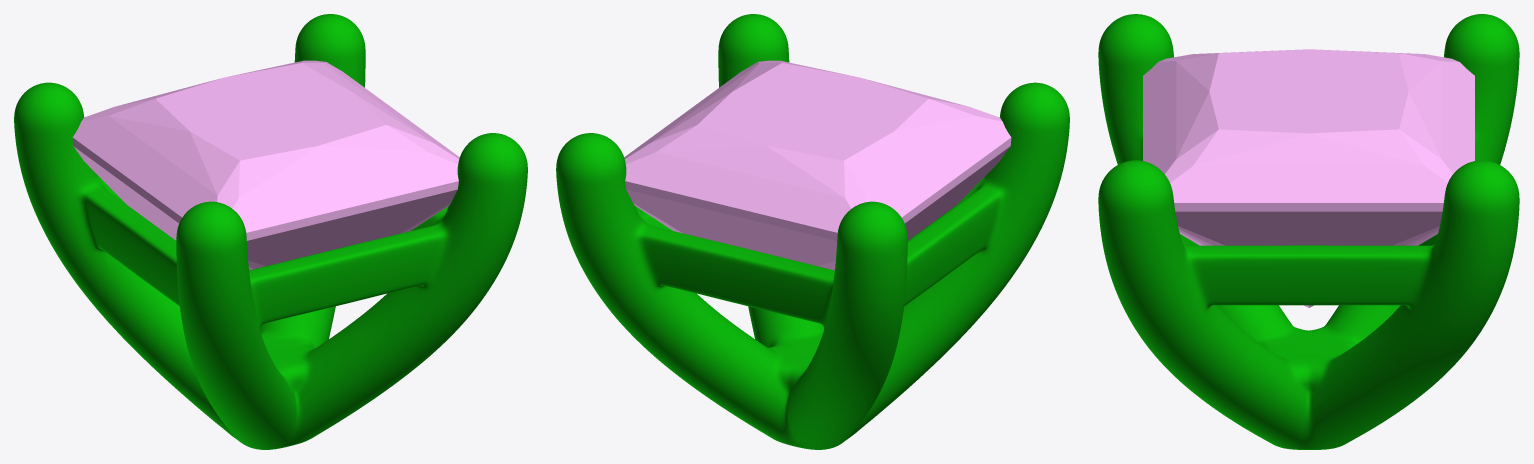
3 views of the same model, side by side, from view 1: azimuth 30°, elevation 25°; view 2: azimuth 150°, elevation 25°; view 3: azimuth 270°, elevation 25° (orthographic). The views are drawn at different scales.
Parts seen in each view (by area): view 1: Metal01, Diamond_Princess; view 2: Metal01, Diamond_Princess; view 3: Metal01, Diamond_Princess.
Boxes of the visible parts, bbox=[...] form: Metal01: bbox=[14, 14, 527, 449]; Diamond_Princess: bbox=[72, 60, 459, 270]; Metal01: bbox=[556, 14, 1069, 449]; Diamond_Princess: bbox=[624, 60, 1011, 270]; Metal01: bbox=[1098, 14, 1519, 449]; Diamond_Princess: bbox=[1143, 49, 1474, 307].
Size of the model in its own units: 5.54 by 5 by 5.54.
